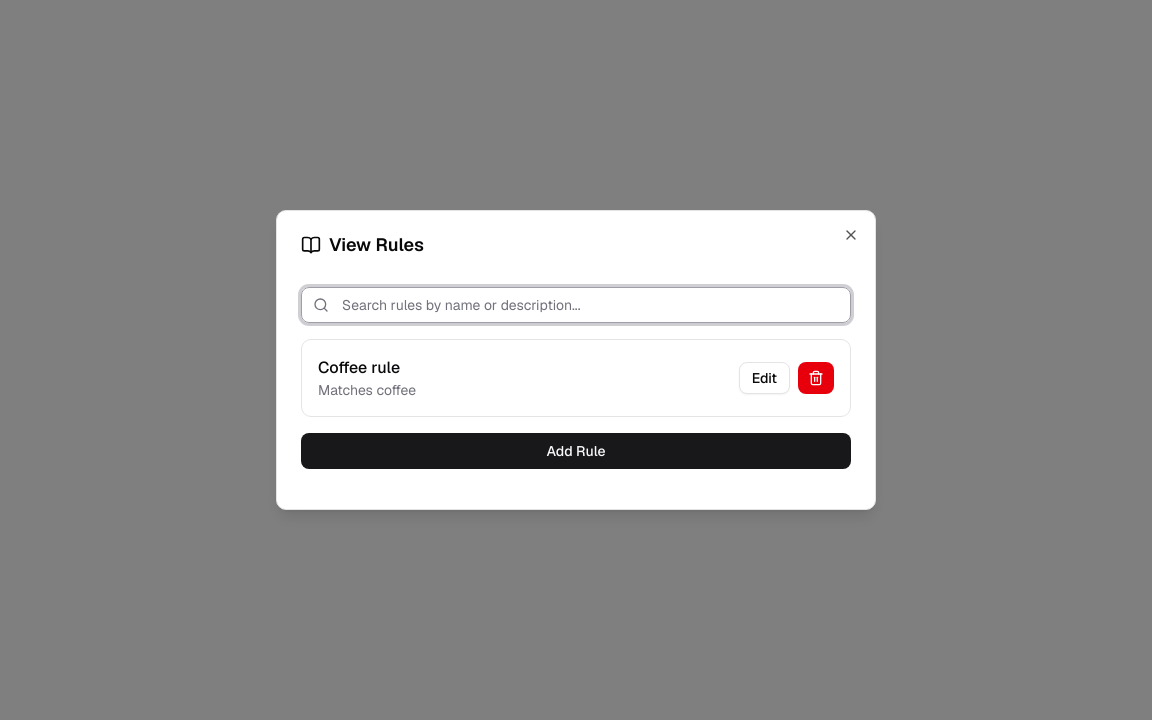
Test: ViewRulesModal › opens the edit dialog with the rule loaded
Expected: the text "Coffee rule" is shown, [318,357,400,378]
Step 1. Click the button "Edit" → (764, 378), box [739,362,790,394]
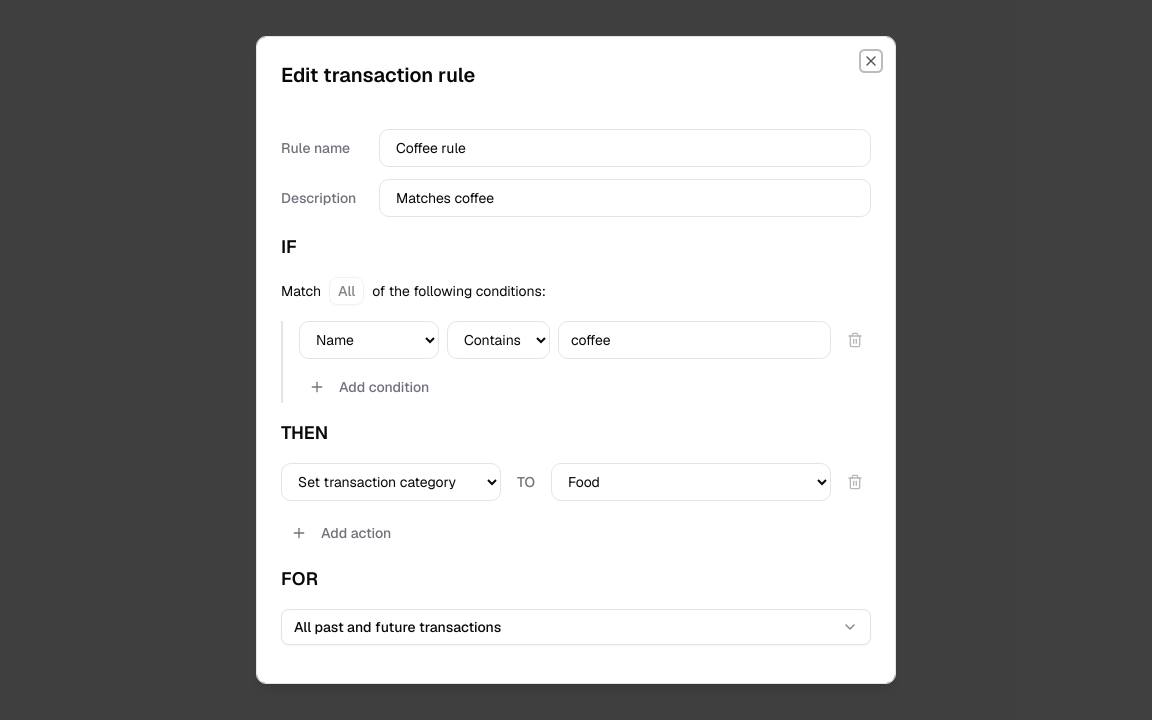
Expected: the dialog "Edit transaction rule" is shown, [256,36,896,684]
Expected: the field showing "Coffee rule" next to "Rule name" is shown, [379,129,871,167]
